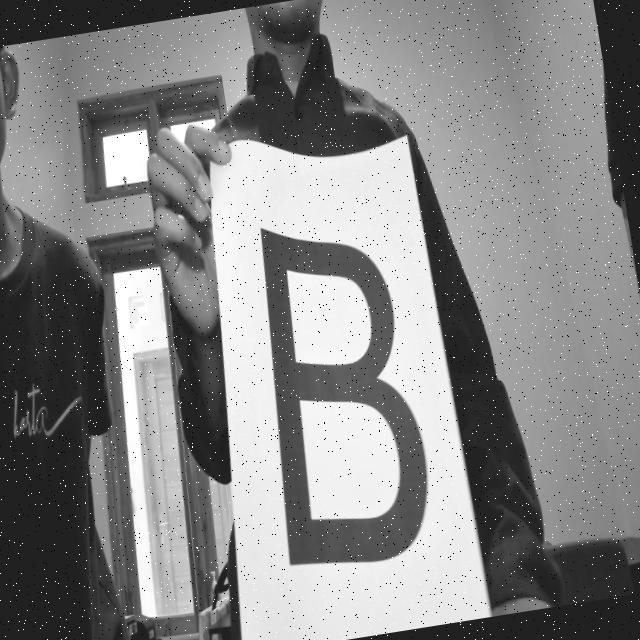b: (227, 191, 458, 640)
